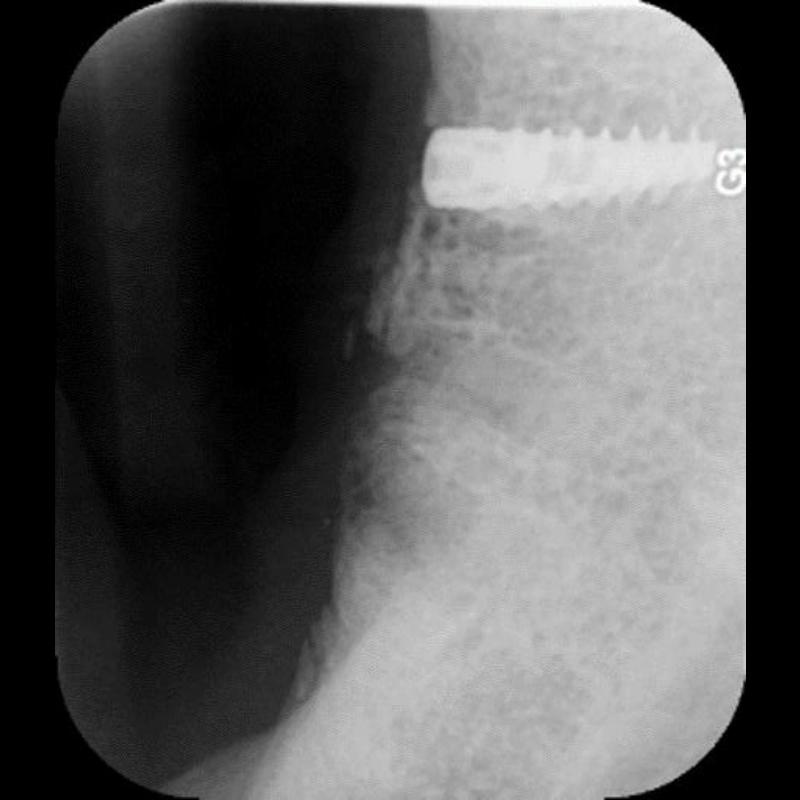ADIN: (423, 114, 733, 222)
